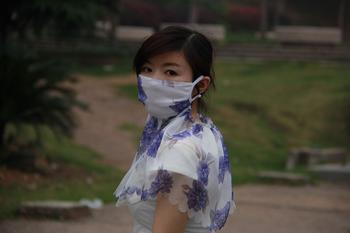face_mask: (139, 49, 191, 116)
